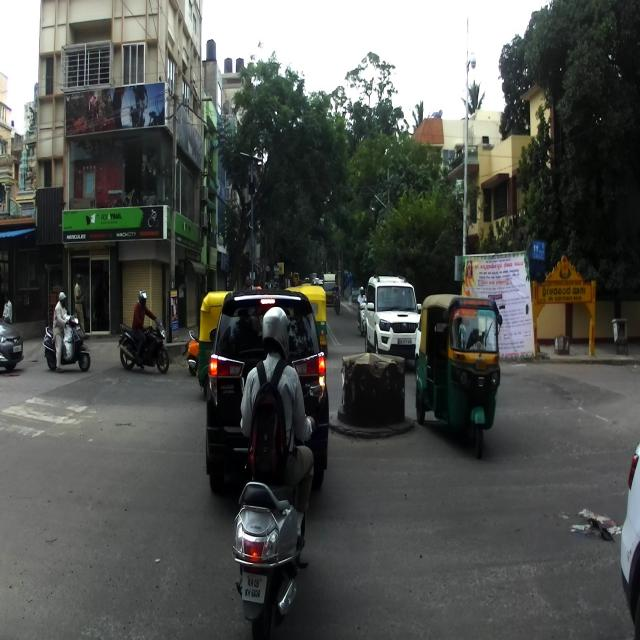Car_Mahindra: (363, 274, 422, 360)
Car_Toyota: (203, 289, 329, 499)
autorickshaw: (415, 294, 502, 460)
motorcycle_Honda: (116, 314, 170, 374)
scooter: (230, 430, 308, 640), (41, 309, 91, 372)
